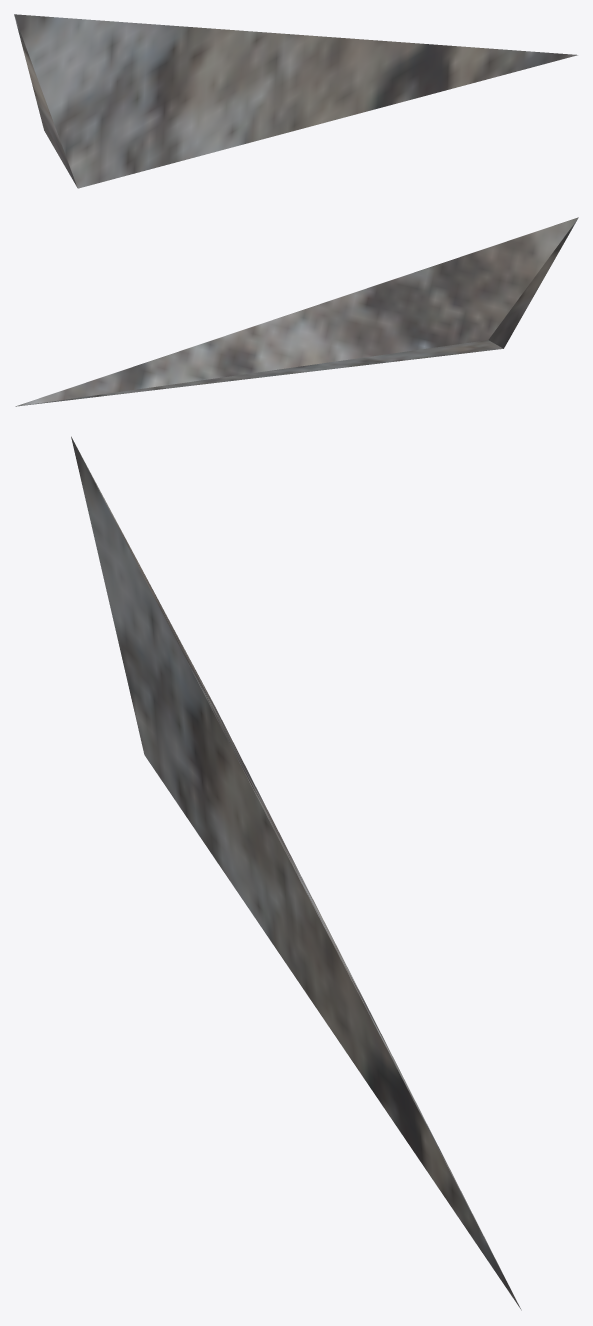
File: Asteroid_Large_001_02_008_03_020.fbx
The picture shows the model from 3 angles, top to bottom: view 1: azimuth 30°, elevation 25°; view 2: azimuth 150°, elevation 25°; view 3: azimuth 270°, elevation 25°; orthographic projection. The views are drawn at different scales.
Parts seen in each view (by area): view 1: Asteroid_Large_001_02_008_03_020; view 2: Asteroid_Large_001_02_008_03_020; view 3: Asteroid_Large_001_02_008_03_020.
Boxes of the visible parts, x1,y1,x2,y2 form: Asteroid_Large_001_02_008_03_020: (14,14,577,188); Asteroid_Large_001_02_008_03_020: (15,217,578,406); Asteroid_Large_001_02_008_03_020: (71,436,521,1310).
Size of the model in its own units: 3.74 by 1.72 by 1.62.
